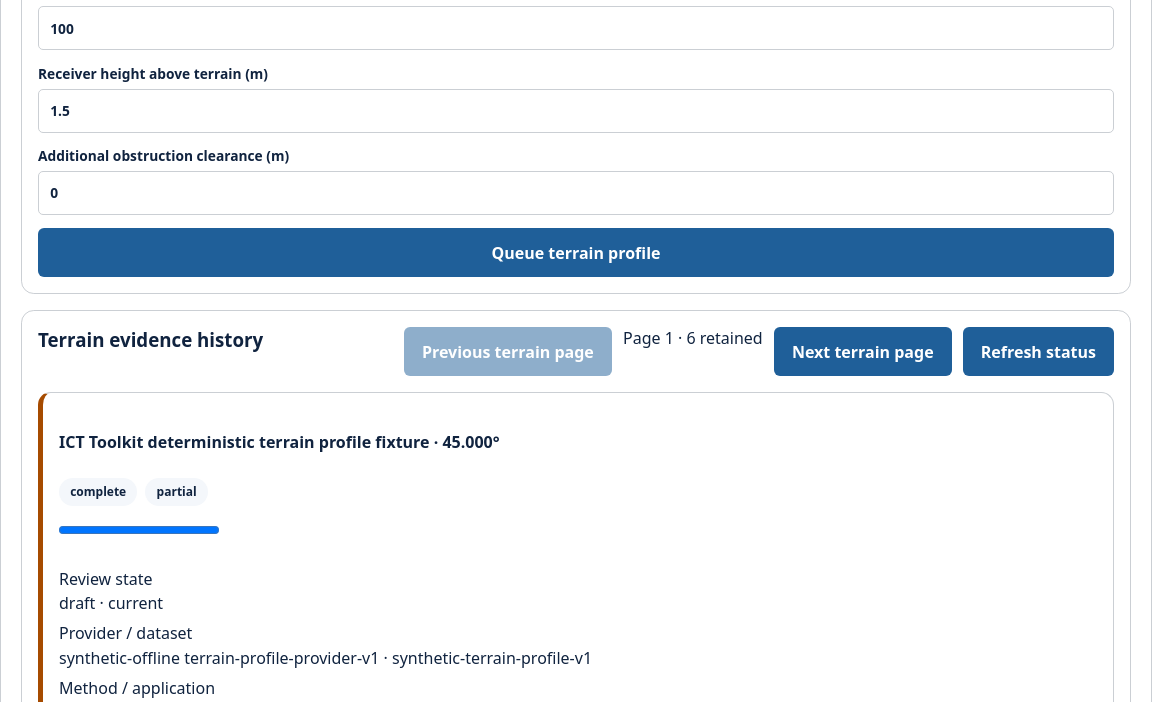
Test: pages retained terrain history without rendering every profile up front
The width and height of the screenshot is (1152, 702).
(page scrolled)
Expected: the text "Page 1 · 6 retained" is shown, [623,327,763,349]
Click the button "Next terrain page" at [863, 352], box [774,327,952,376]
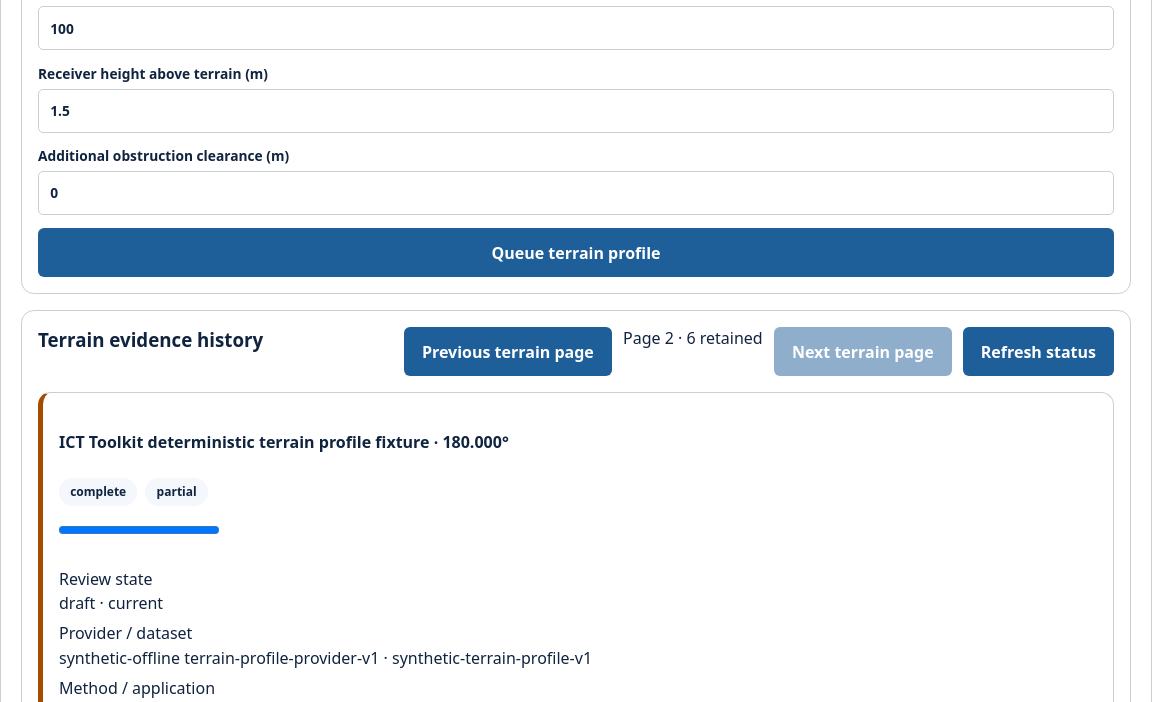
Result: the text "Page 2 · 6 retained" is shown at [623,327,763,349]
Result: the button "Previous terrain page" is enabled at [404,327,612,376]
